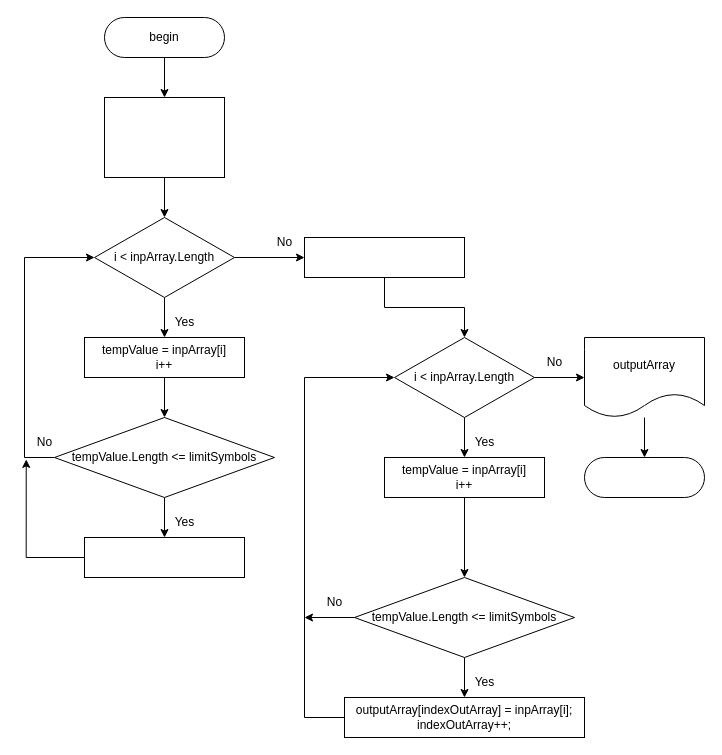
Image size: 722x755. Some labels were removed from this diagram. Here are the shapes that lost their labels. From the top down, the box of each, then its label:
(104, 96, 224, 178): lengthArray = 0 tempValue = "" i = 0
(304, 236, 464, 278): indexOutArray = 0
(584, 456, 704, 498): end
(84, 536, 244, 578): lengthArray++
